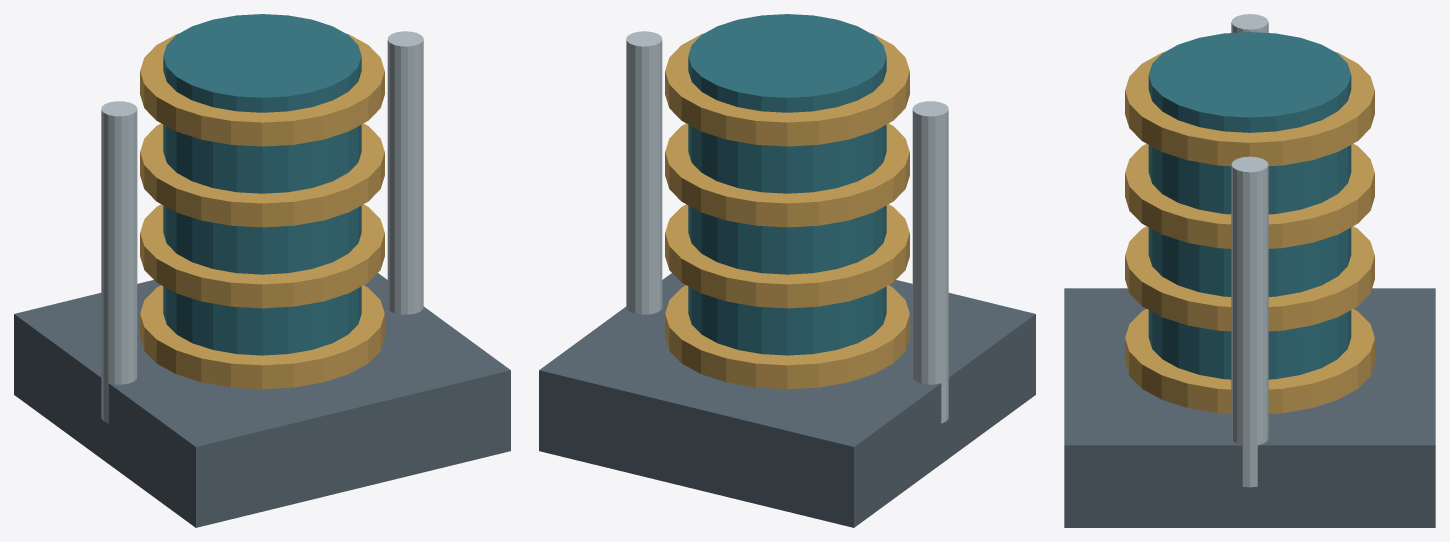
Rendered from particle-foundry.glb.
3 views of the same model, side by side, from view 1: azimuth 30°, elevation 25°; view 2: azimuth 150°, elevation 25°; view 3: azimuth 270°, elevation 25° (orthographic). The views are drawn at different scales.
Parts seen in each view (by area): view 1: particle furnace base, containment chamber, power conduit, accelerator coil.003, power conduit.001, accelerator coil.001, accelerator coil.002, accelerator coil; view 2: particle furnace base, containment chamber, power conduit, accelerator coil.003, power conduit.001, accelerator coil.001, accelerator coil.002, accelerator coil; view 3: particle furnace base, containment chamber, power conduit.001, accelerator coil.003, accelerator coil.001, accelerator coil, accelerator coil.002, power conduit.
Part boxes in pixels (left/top/right/bottom): particle furnace base: left=14, top=273, right=510, bottom=527; containment chamber: left=163, top=14, right=361, bottom=355; power conduit: left=101, top=101, right=137, bottom=423; accelerator coil.003: left=140, top=33, right=384, bottom=146; power conduit.001: left=387, top=31, right=423, bottom=314; accelerator coil.001: left=140, top=204, right=384, bottom=308; accelerator coil.002: left=140, top=123, right=384, bottom=227; accelerator coil: left=140, top=285, right=384, bottom=389; particle furnace base: left=539, top=273, right=1035, bottom=527; containment chamber: left=688, top=14, right=886, bottom=355; power conduit: left=912, top=101, right=948, bottom=423; accelerator coil.003: left=665, top=33, right=909, bottom=146; power conduit.001: left=626, top=31, right=662, bottom=314; accelerator coil.001: left=665, top=204, right=909, bottom=308; accelerator coil.002: left=665, top=123, right=909, bottom=227; accelerator coil: left=665, top=285, right=909, bottom=389; particle furnace base: left=1064, top=288, right=1435, bottom=527; containment chamber: left=1148, top=32, right=1351, bottom=379; power conduit.001: left=1231, top=156, right=1268, bottom=487; accelerator coil.003: left=1125, top=52, right=1374, bottom=166; accelerator coil.001: left=1125, top=226, right=1374, bottom=331; accelerator coil: left=1125, top=309, right=1374, bottom=413; accelerator coil.002: left=1125, top=143, right=1374, bottom=248; power conduit: left=1231, top=14, right=1268, bottom=32.
Size of the model in its own units: 1.11 by 1.23 by 1.1.
